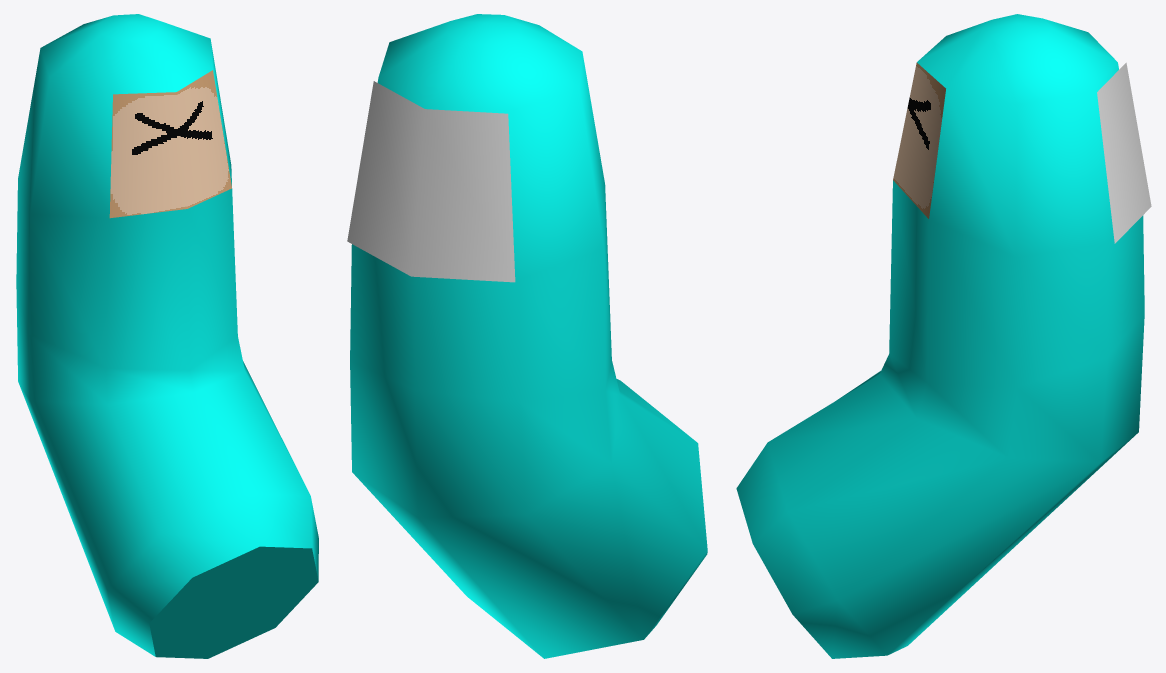
The model's file is OTA_D_05.glb.
3 views of the same model, side by side, from view 1: azimuth 30°, elevation 25°; view 2: azimuth 150°, elevation 25°; view 3: azimuth 270°, elevation 25° (orthographic). The views are drawn at different scales.
Visible parts, largest first — view 1: FRAME_ROOT; view 2: FRAME_ROOT; view 3: FRAME_ROOT.
Boxes of the visible parts, bbox=[...] form: FRAME_ROOT: bbox=[16, 14, 318, 658]; FRAME_ROOT: bbox=[347, 14, 707, 658]; FRAME_ROOT: bbox=[736, 14, 1151, 658].
Bounding box in the file's own units: 1.28 × 3.35 × 2.01.
3 materials, 3 textured.
